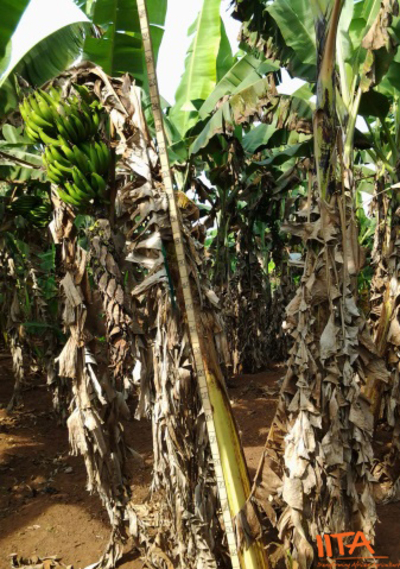bananaHand: (15, 73, 124, 213)
